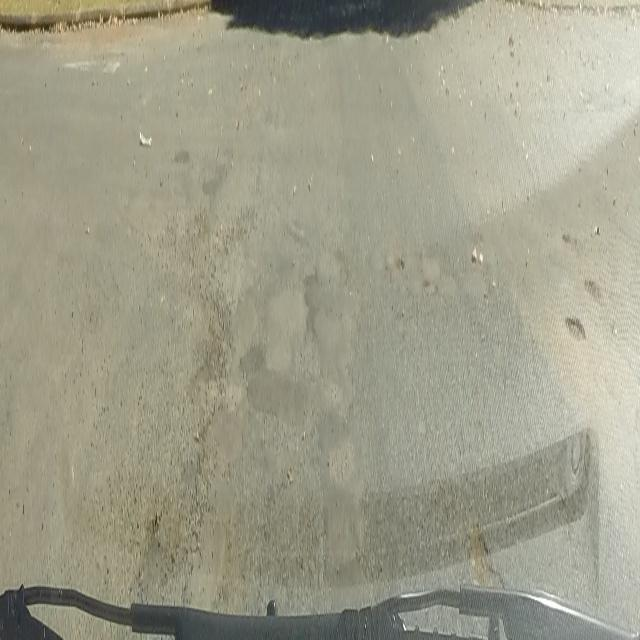pothole: (565, 272, 605, 348)
